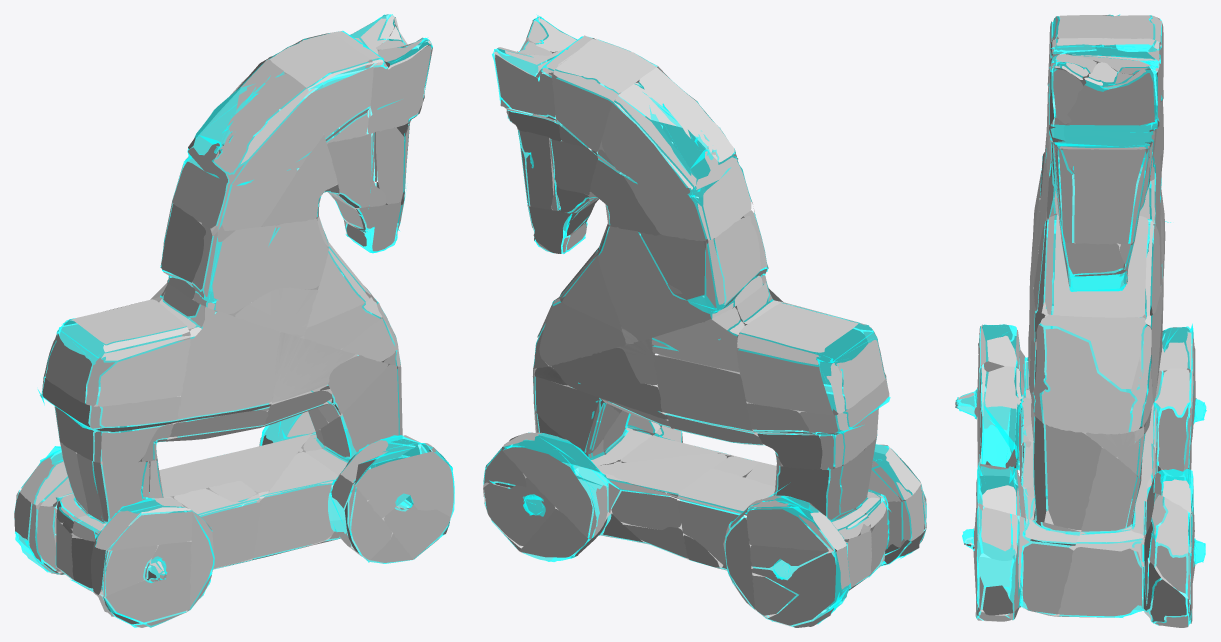
The model's file is troia.fbx.
3 views of the same model, side by side, from view 1: azimuth 30°, elevation 25°; view 2: azimuth 150°, elevation 25°; view 3: azimuth 270°, elevation 25° (orthographic). The views are drawn at different scales.
Visible parts, largest first — view 1: tripo_node_c15d251b-6824-4bb3-928e-863595c57a16.001, tripo_node_c15d251b-6824-4bb3-928e-863595c57a16.002; view 2: tripo_node_c15d251b-6824-4bb3-928e-863595c57a16.001, tripo_node_c15d251b-6824-4bb3-928e-863595c57a16.002; view 3: tripo_node_c15d251b-6824-4bb3-928e-863595c57a16.001, tripo_node_c15d251b-6824-4bb3-928e-863595c57a16.002.
Boxes of the visible parts, <box> form: tripo_node_c15d251b-6824-4bb3-928e-863595c57a16.001: <box>14,14,453,627</box>; tripo_node_c15d251b-6824-4bb3-928e-863595c57a16.002: <box>14,14,454,627</box>; tripo_node_c15d251b-6824-4bb3-928e-863595c57a16.001: <box>483,17,926,627</box>; tripo_node_c15d251b-6824-4bb3-928e-863595c57a16.002: <box>483,14,926,627</box>; tripo_node_c15d251b-6824-4bb3-928e-863595c57a16.001: <box>955,14,1196,627</box>; tripo_node_c15d251b-6824-4bb3-928e-863595c57a16.002: <box>955,14,1206,625</box>.
Bounding box in the file's own units: 72.8 × 95.11 × 36.13.
